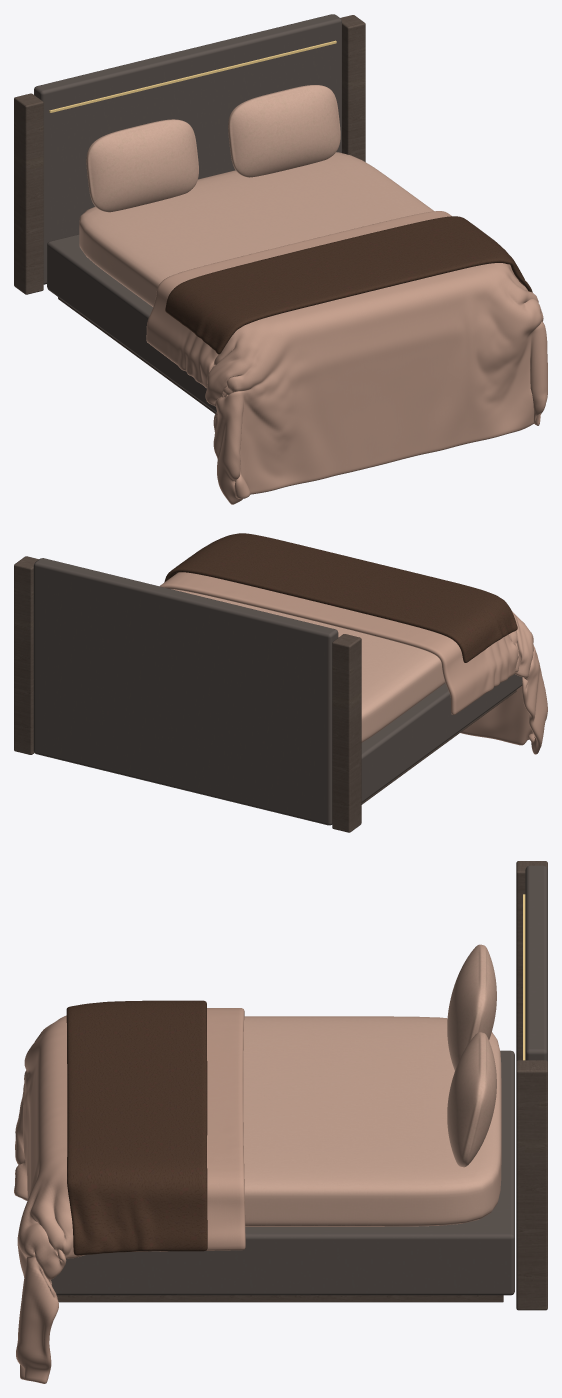
Rendered from talya-bedset-with-wardrobe--bed.glb.
3 views of the same model, one above another, from view 1: azimuth 30°, elevation 25°; view 2: azimuth 150°, elevation 25°; view 3: azimuth 270°, elevation 25° (orthographic). The views are drawn at different scales.
Visible parts, largest first — view 1: duvet, head, mattress, throw, pillow0, pillow1, base, wing-1, wing1, strip; view 2: head, throw, duvet, base, mattress, wing-1, wing1, plinth; view 3: mattress, throw, base, duvet, wing1, pillow1, head, pillow0, plinth, wing-1.
Part boxes in pixels (bbox=[...]): duvet: bbox=[146, 211, 547, 504]; head: bbox=[34, 14, 341, 284]; mattress: bbox=[79, 152, 434, 306]; throw: bbox=[165, 216, 532, 354]; pillow0: bbox=[86, 119, 198, 212]; pillow1: bbox=[228, 85, 340, 177]; base: bbox=[47, 234, 216, 412]; wing-1: bbox=[14, 93, 43, 294]; wing1: bbox=[340, 15, 365, 161]; strip: bbox=[49, 40, 336, 112]; head: bbox=[33, 558, 338, 825]; throw: bbox=[164, 533, 517, 662]; duvet: bbox=[160, 572, 547, 754]; base: bbox=[361, 674, 522, 802]; mattress: bbox=[172, 589, 445, 742]; wing-1: bbox=[332, 634, 361, 832]; wing1: bbox=[14, 556, 38, 754]; plinth: bbox=[361, 690, 516, 804]; mattress: bbox=[243, 1016, 501, 1226]; throw: bbox=[66, 1000, 207, 1255]; base: bbox=[51, 1050, 514, 1295]; duvet: bbox=[14, 1008, 245, 1383]; wing1: bbox=[516, 1060, 547, 1310]; pillow1: bbox=[447, 1032, 496, 1167]; head: bbox=[525, 865, 547, 1061]; pillow0: bbox=[447, 944, 496, 1070]; plinth: bbox=[56, 1295, 503, 1302]; wing-1: bbox=[516, 861, 547, 1061].
Size of the model in its own units: 2.2 by 1.66 by 2.36.
Materials: 7 (6 with a texture image).
